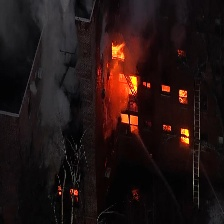fire: (110, 41, 191, 147)
smoke: (23, 3, 79, 136)
